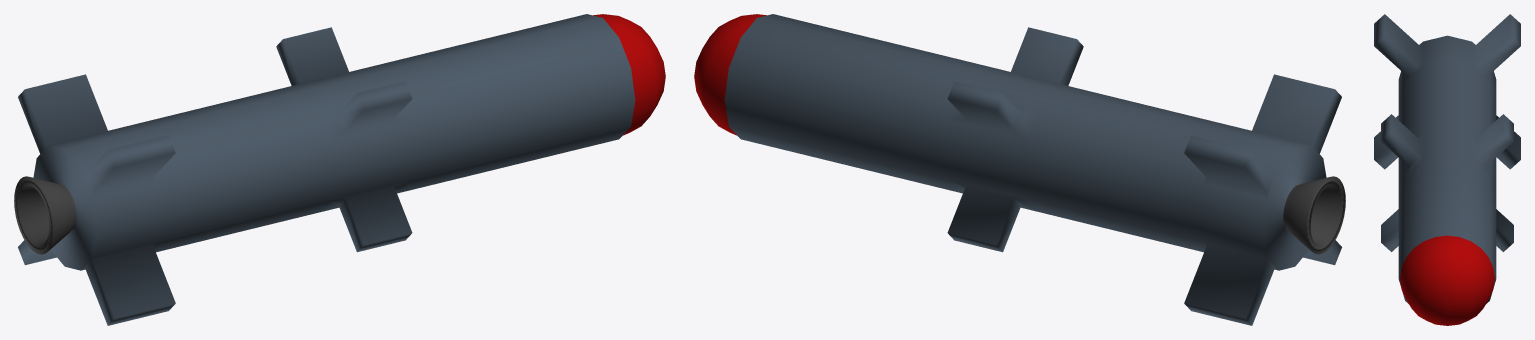
File: Weapon5.fbx
3 views of the same model, side by side, from view 1: azimuth 30°, elevation 25°; view 2: azimuth 150°, elevation 25°; view 3: azimuth 270°, elevation 25° (orthographic). The views are drawn at different scales.
Visible parts, largest first — view 1: Cylinder, Circle, Sphere; view 2: Cylinder, Circle, Sphere; view 3: Cylinder, Sphere.
Part boxes in pixels (x1,y1,x2,y2): Cylinder: (18, 14, 635, 325); Circle: (14, 176, 76, 254); Sphere: (593, 14, 665, 135); Cylinder: (724, 14, 1341, 325); Circle: (1283, 176, 1345, 254); Sphere: (694, 14, 766, 135); Cylinder: (1374, 14, 1520, 303); Sphere: (1400, 235, 1494, 325).
Size of the model in its own units: 1.39 by 0.3751 by 0.3751.
